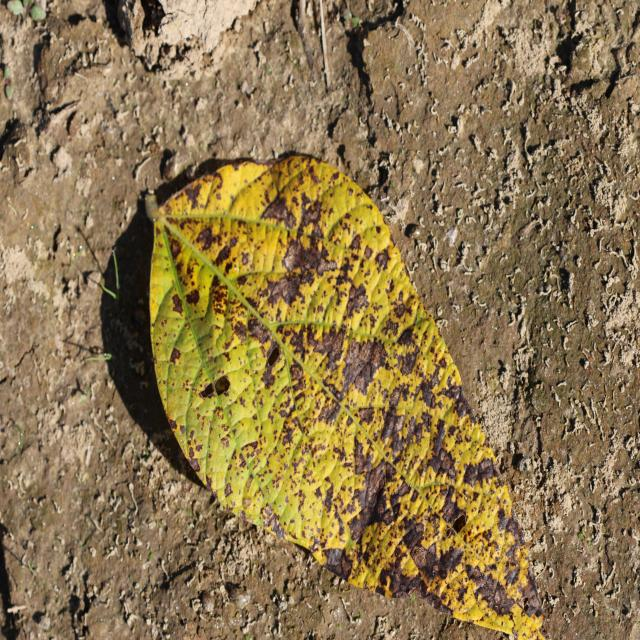Bacterial_Blight: (439, 474, 547, 639), (238, 320, 321, 529), (152, 246, 222, 467), (332, 211, 420, 345), (370, 349, 436, 474), (359, 497, 426, 602), (158, 162, 275, 219), (434, 405, 494, 513), (149, 222, 180, 335), (310, 179, 367, 240), (207, 267, 328, 292), (330, 330, 377, 393), (297, 185, 338, 231), (361, 463, 387, 516), (451, 601, 497, 626), (315, 394, 342, 426), (328, 320, 348, 363)
Soybean: (100, 151, 534, 639)
